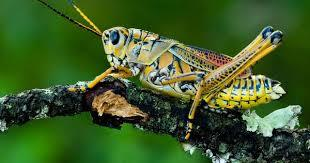insect: (34, 0, 290, 142)
